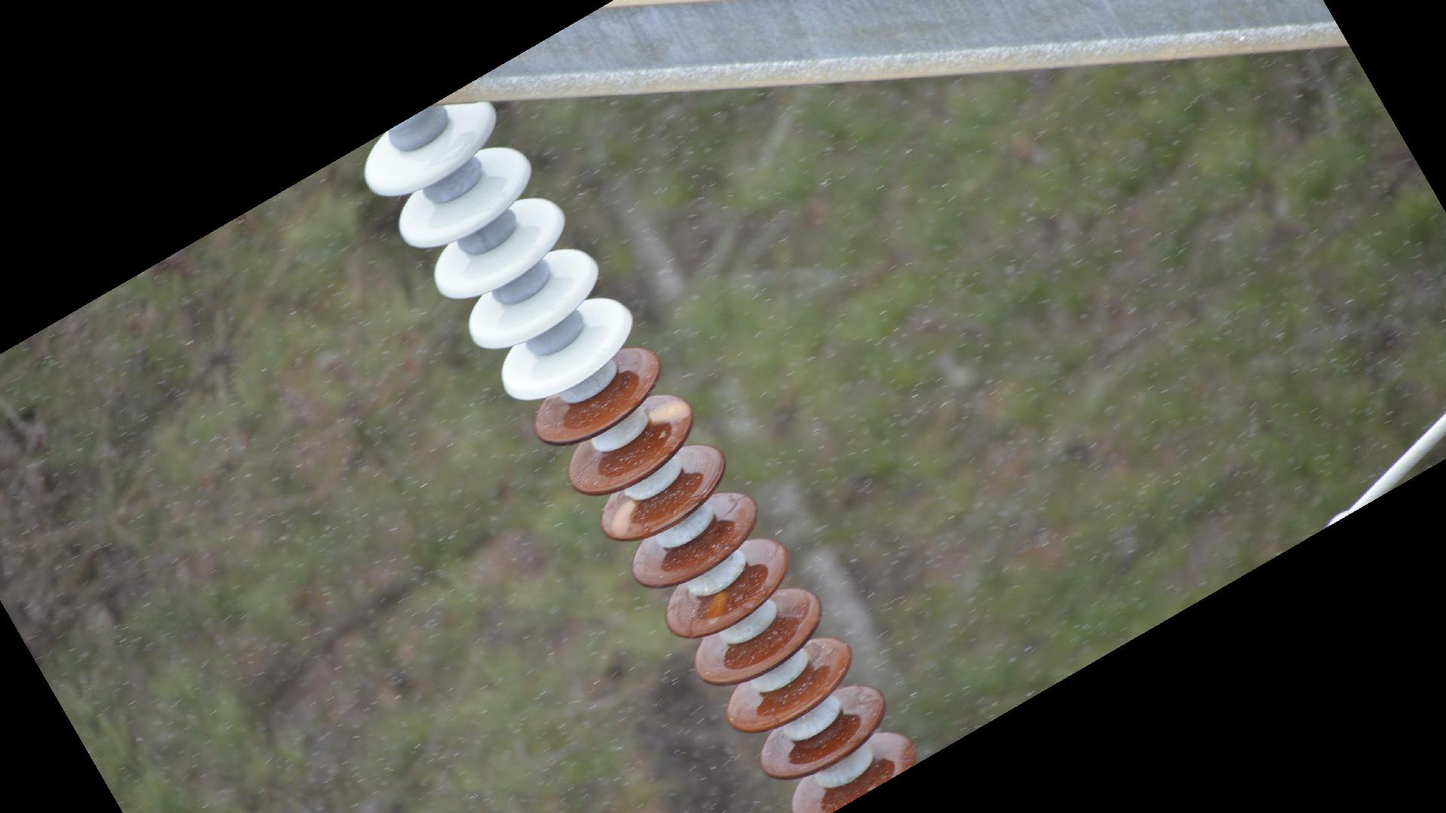insulator: (357, 99, 924, 813)
insulator_flashover: (645, 396, 693, 428), (608, 496, 639, 540), (703, 590, 732, 629)
